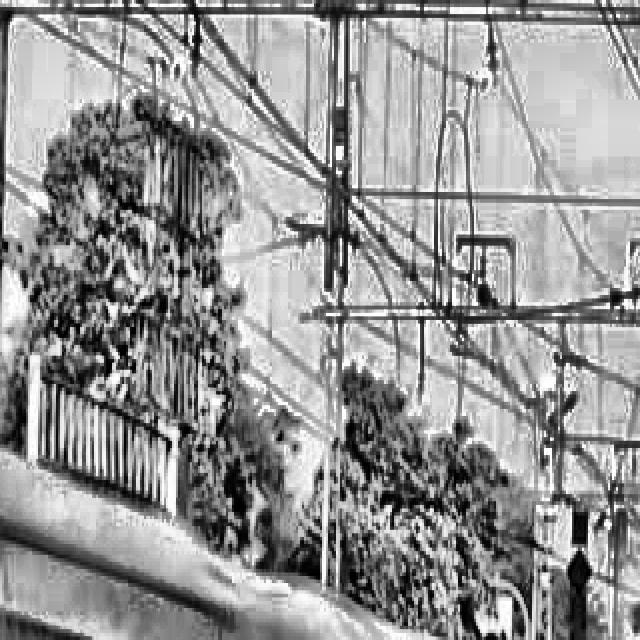Kereta: (0, 405, 232, 640), (208, 547, 394, 640), (370, 597, 484, 640)
